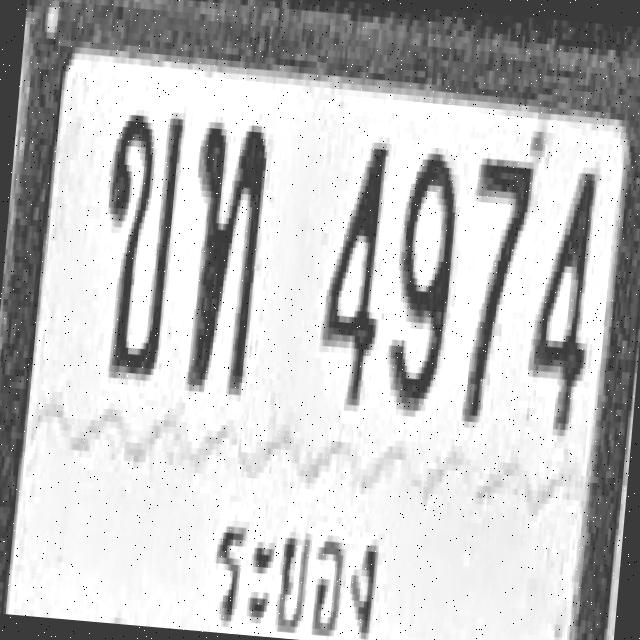11KhorKhai: (93, 104, 183, 379)
32ThorThaHan: (179, 118, 269, 392)
4: (523, 164, 600, 430), (316, 132, 390, 406)
7: (456, 151, 534, 425)
9: (384, 146, 462, 412)
Rayong: (191, 484, 394, 640)
